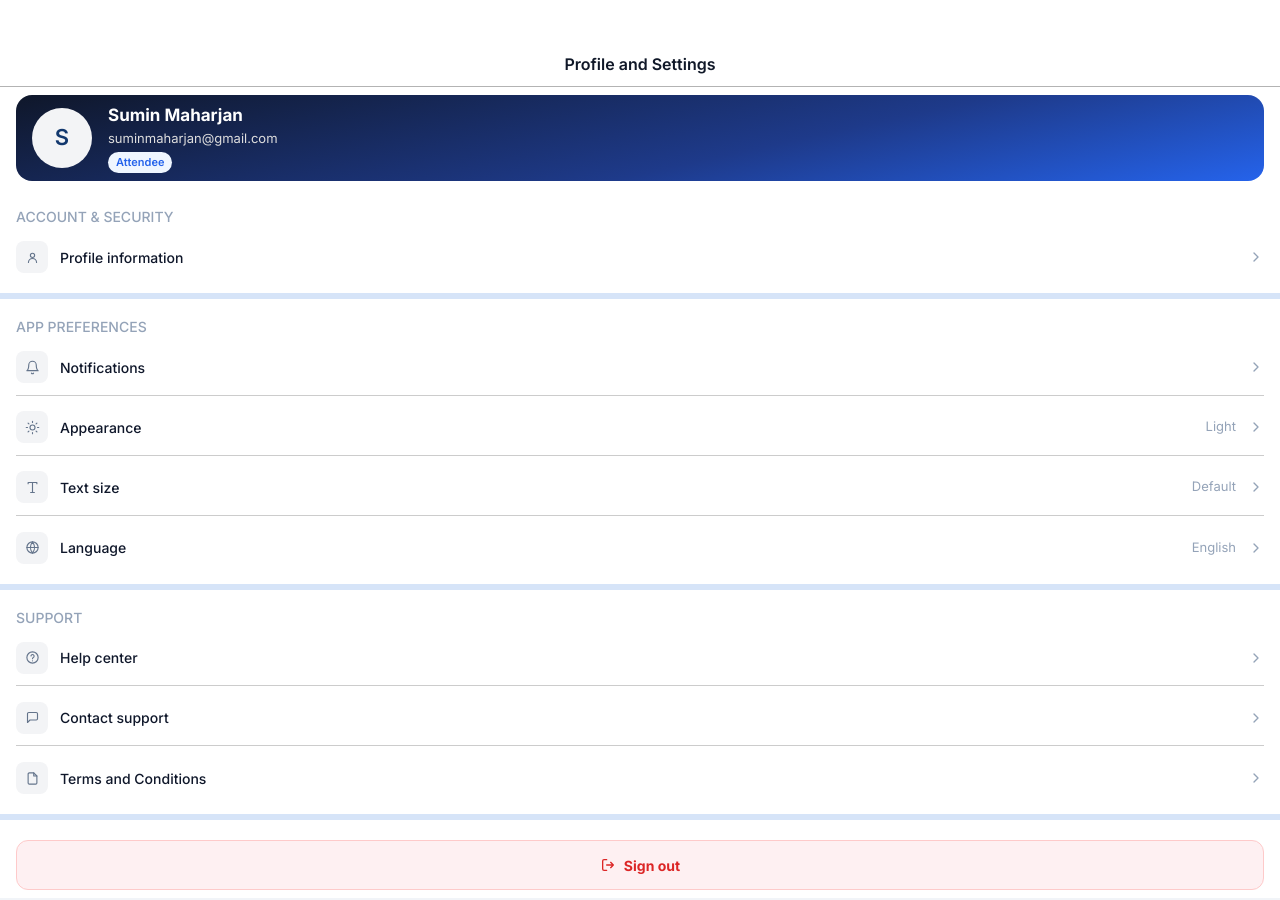
Test: profile information › reads rather than edits until asked
Click the button "Profile information". click: (32,257)
box: [16,229,1264,285]
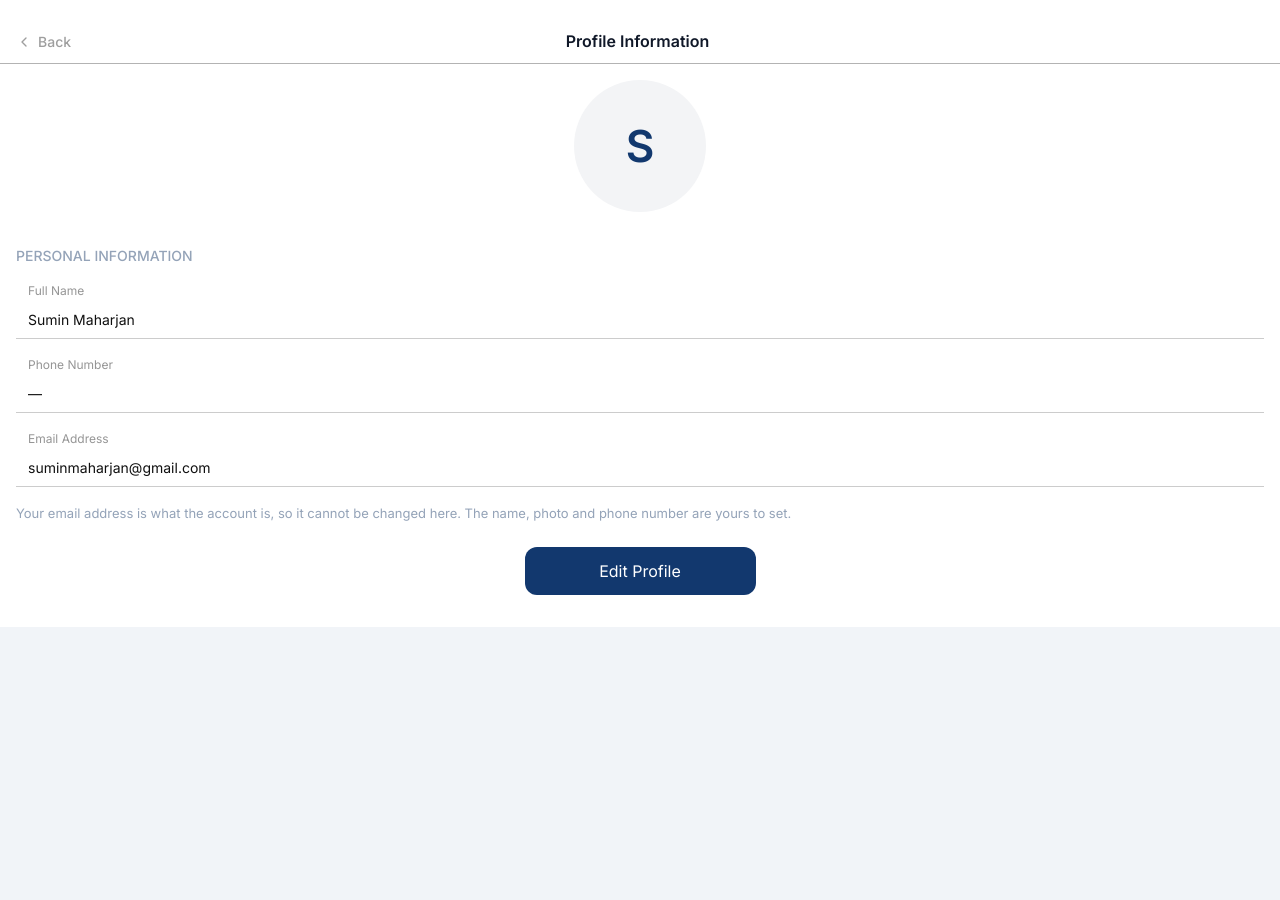
Expected: the heading "Profile Information" is shown, [566,31,709,51]
Expected: the button "Edit Profile" is shown, [524,547,756,595]
